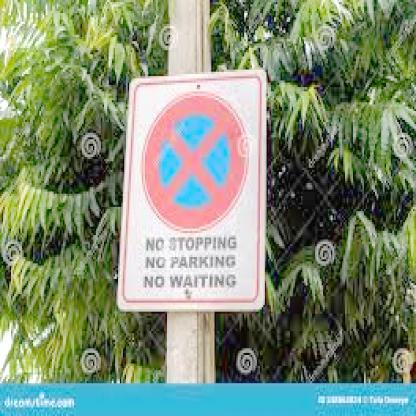No stopping: (138, 91, 252, 233)
